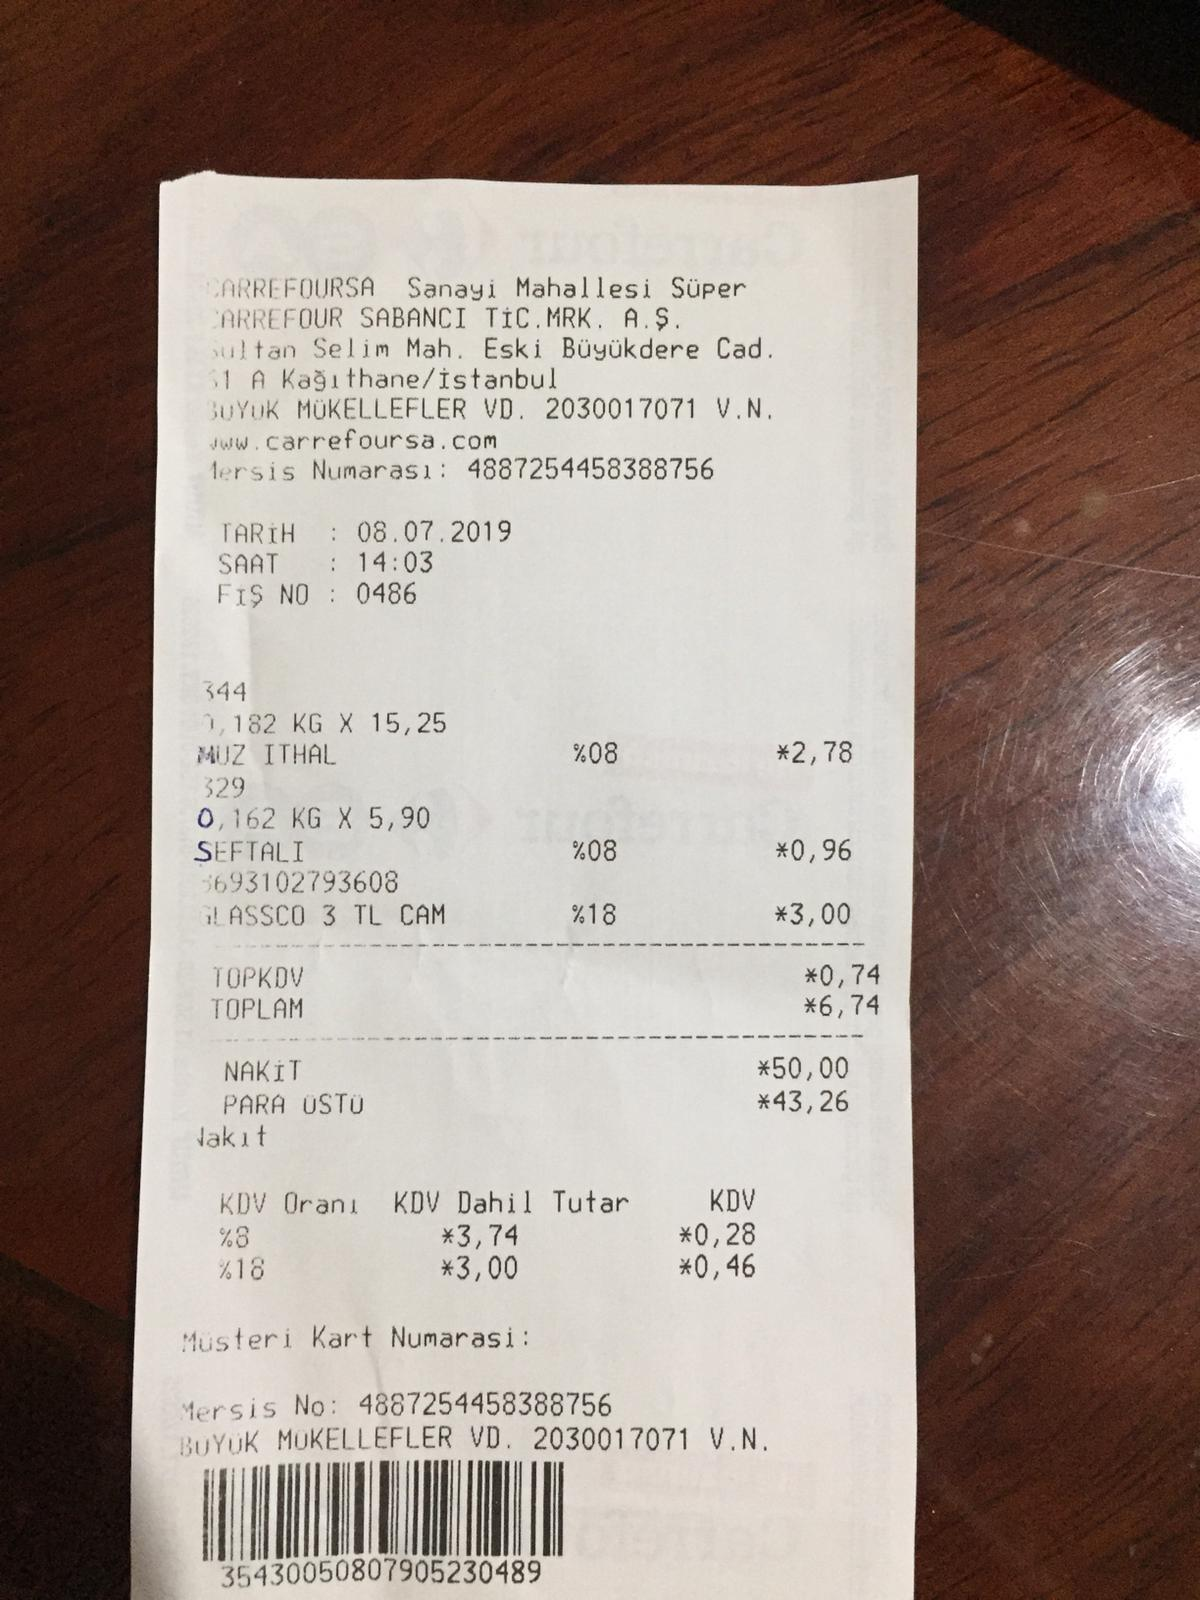total: (211, 988, 896, 1030)
